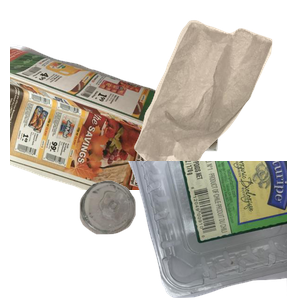glass: (77, 178, 205, 300)
paper: (10, 42, 224, 222)
plastic: (60, 161, 300, 300)
trash: (132, 17, 300, 177)
